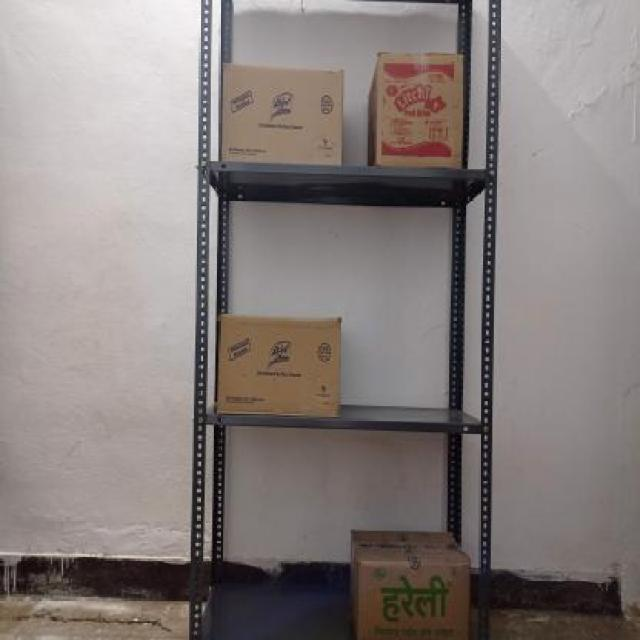box: (216, 313, 339, 419), (222, 63, 342, 165), (375, 50, 465, 170), (360, 557, 469, 635)
